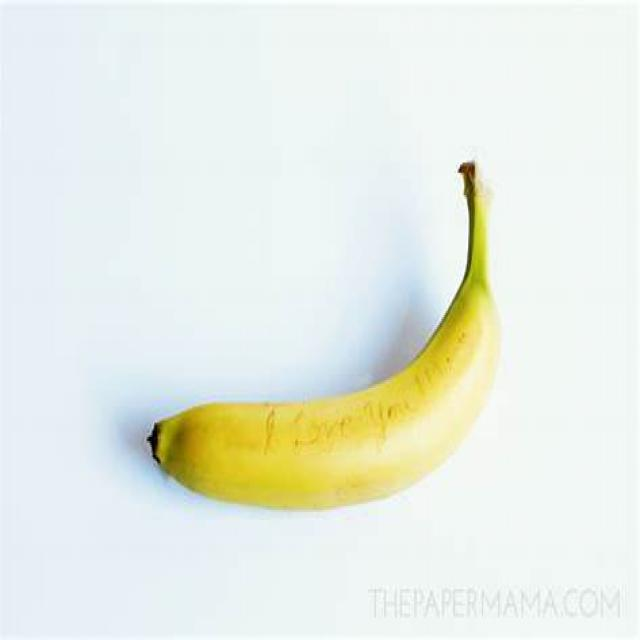Banana: (146, 163, 503, 507)
